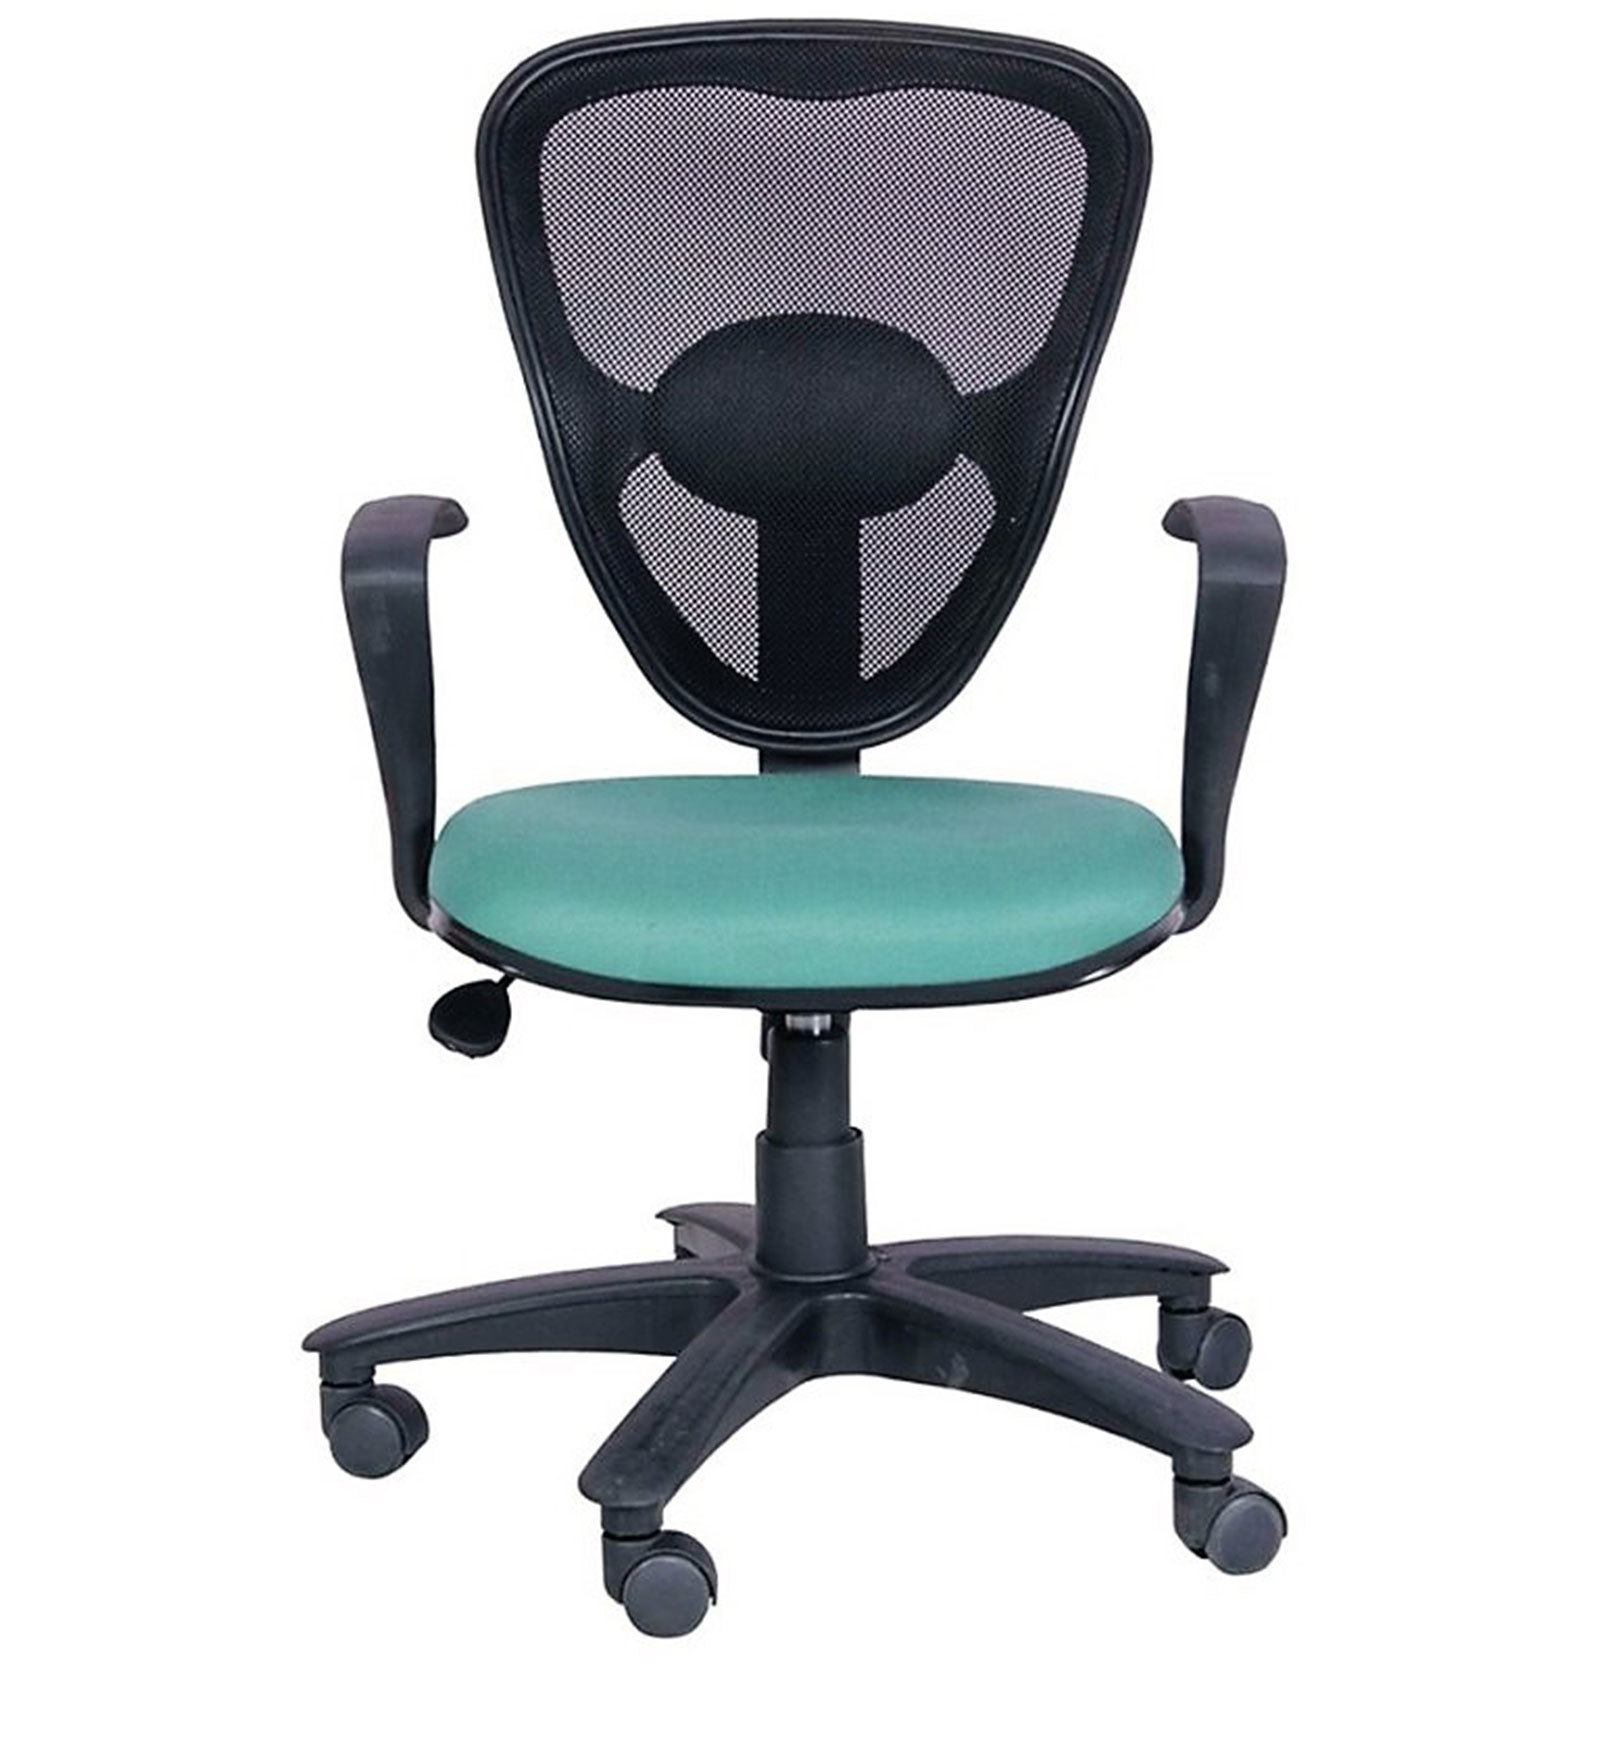Triangular Back Ergonomic Chair with Green Seat by Adiko Systems: (254, 9, 1407, 1631)
